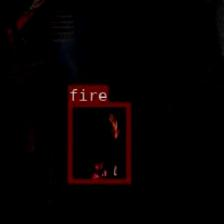fire: (67, 101, 130, 183)
